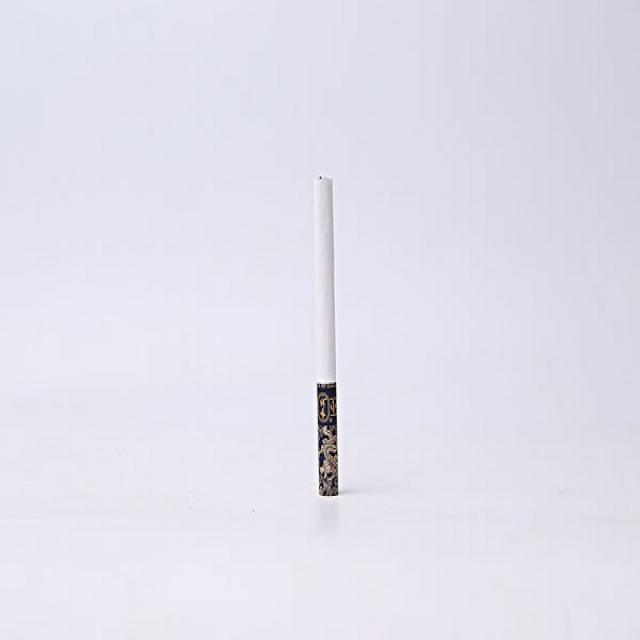smoking: (313, 169, 338, 500)
